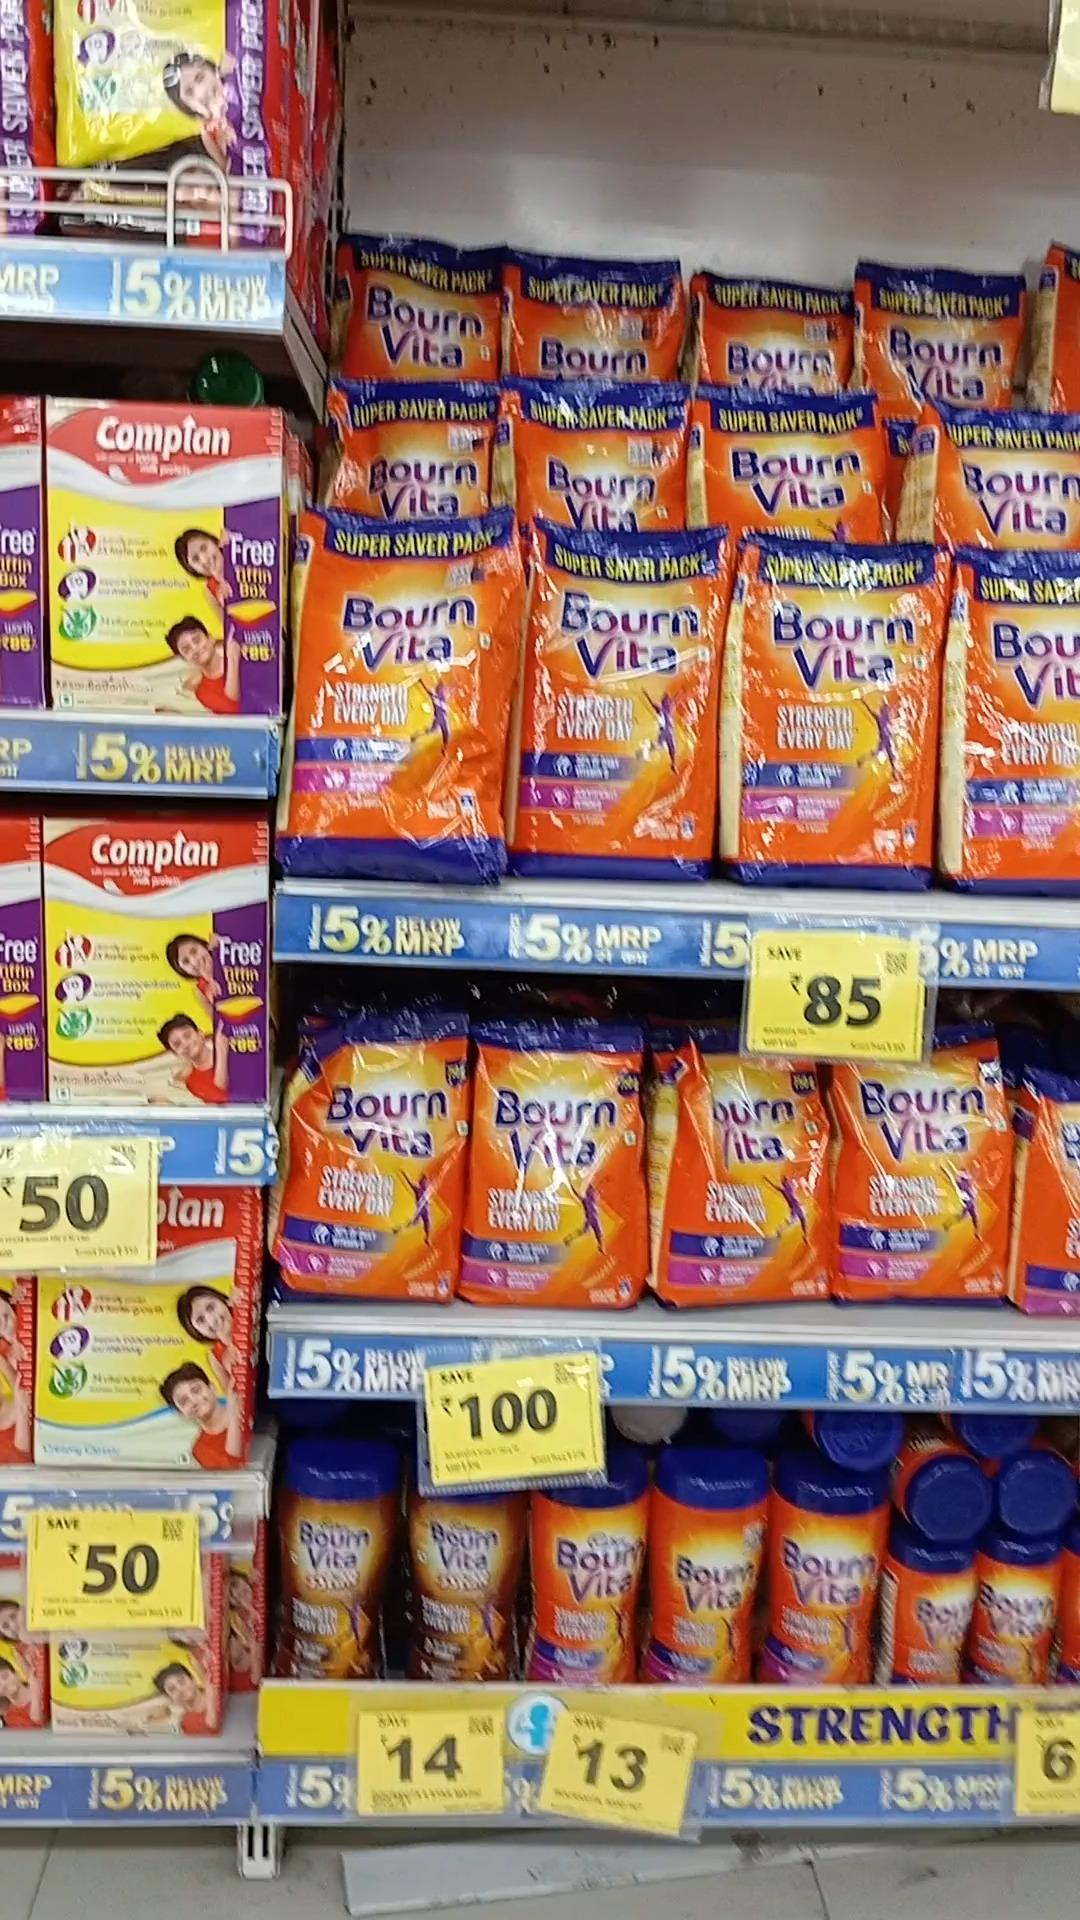BOURN_VITA_200_G_JAR: (977, 1535, 1063, 1684), (887, 1539, 973, 1687)
BOURN_VITA_500_G_JAR: (645, 1449, 761, 1687), (767, 1453, 877, 1692), (527, 1473, 638, 1687)
BOURN_VITA_750_G_POUCH: (286, 512, 508, 885), (731, 539, 935, 886), (518, 527, 717, 876), (270, 1006, 463, 1305), (469, 1013, 646, 1309), (657, 1047, 836, 1312), (943, 549, 1080, 893), (841, 1054, 1011, 1312)
BOURN_VITA_FIVE_STAR_MAGIC_500_G_JAR: (274, 1436, 400, 1687), (407, 1486, 522, 1684)
COMPLAN_CREAMY_CLASSIC_500_G_PACK: (36, 1254, 253, 1482)
COMPLAN_KESAR_BADAM_500_GMS_PACK: (46, 397, 278, 715), (44, 814, 270, 1106)
